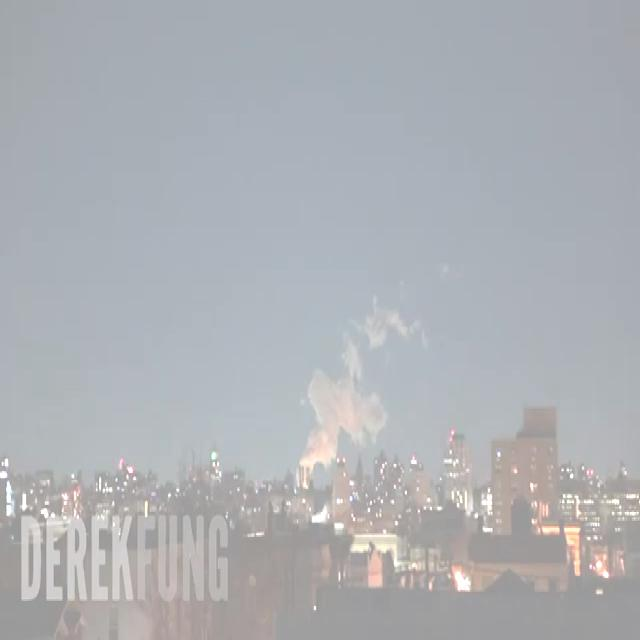smoke: (303, 331, 386, 459)
